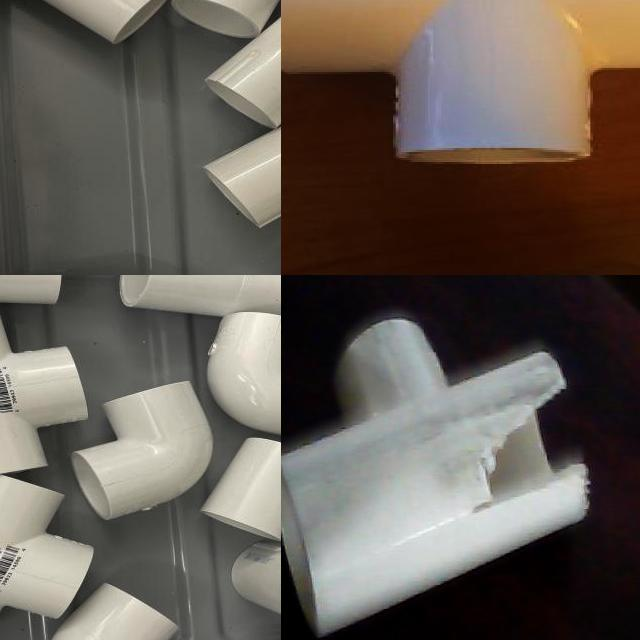Defective: (450, 463, 592, 575), (488, 416, 556, 505), (495, 360, 570, 413), (474, 457, 496, 511)
L Joint: (70, 382, 212, 523), (206, 312, 281, 437)
T Joint: (281, 318, 591, 640), (0, 319, 87, 478), (0, 480, 96, 623), (49, 586, 179, 640), (123, 275, 281, 316)
